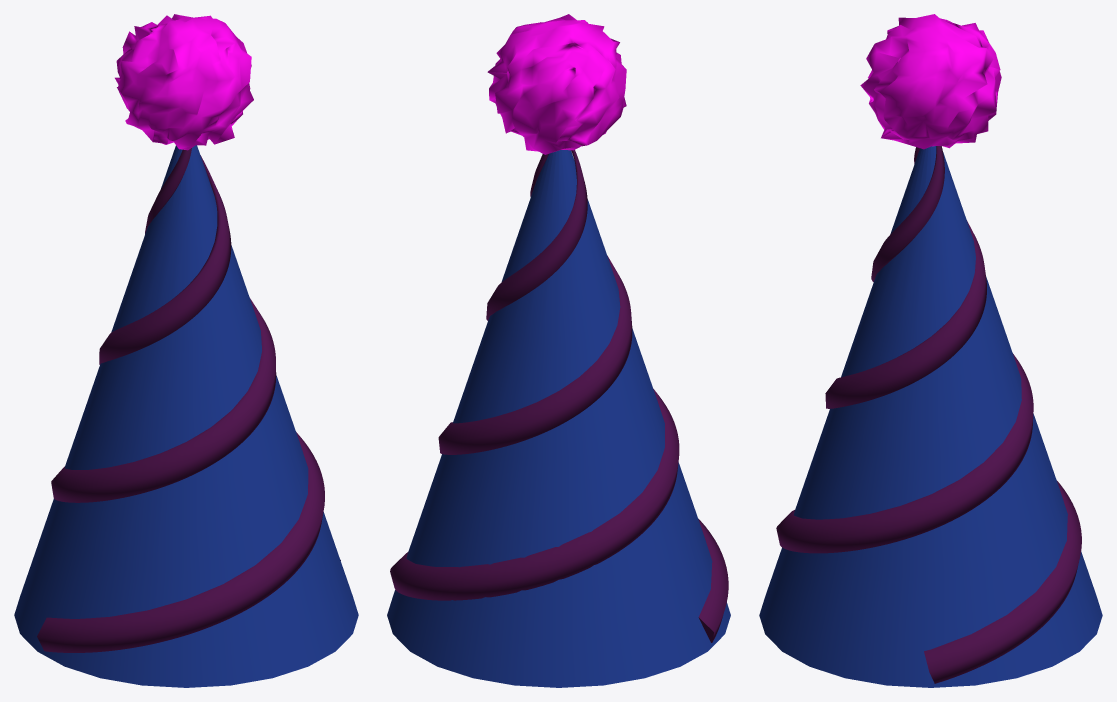
Rendered from Hat_party.FBX.
3 renders of one model, left to right at view 1: azimuth 30°, elevation 25°; view 2: azimuth 150°, elevation 25°; view 3: azimuth 270°, elevation 25°, orthographic.
Parts seen in each view (by area): view 1: Cone001; view 2: Cone001; view 3: Cone001.
Boxes of the visible parts, box(x1,y1,x2,y2) form: Cone001: box(14, 14, 358, 687); Cone001: box(387, 14, 730, 687); Cone001: box(759, 14, 1102, 687).
Bounding box in the file's own units: 18.68 × 34.73 × 18.2.
